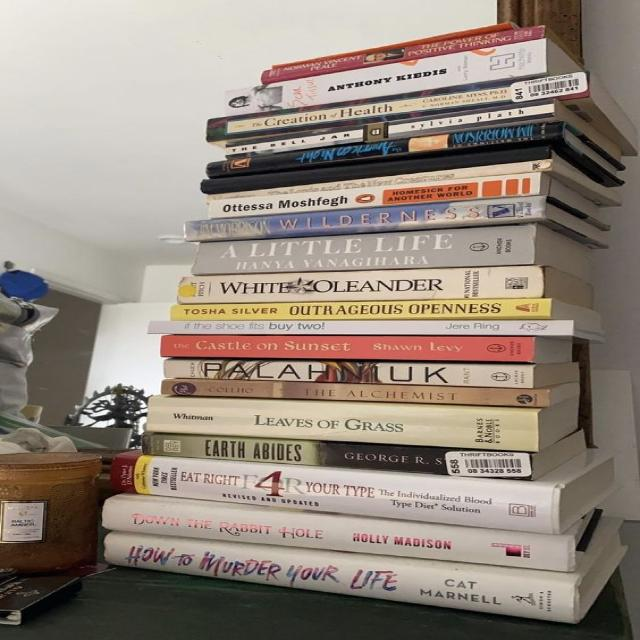book: (108, 531, 577, 621), (113, 454, 561, 535), (105, 498, 575, 572), (208, 71, 588, 139), (225, 42, 549, 114), (147, 398, 537, 452), (226, 99, 556, 157), (210, 122, 560, 176), (146, 433, 530, 479), (190, 223, 535, 273), (201, 144, 548, 193), (182, 198, 541, 241), (210, 175, 540, 218), (180, 267, 544, 303), (160, 380, 551, 405), (170, 361, 535, 387), (159, 337, 538, 361), (172, 301, 548, 320), (146, 320, 575, 334)
